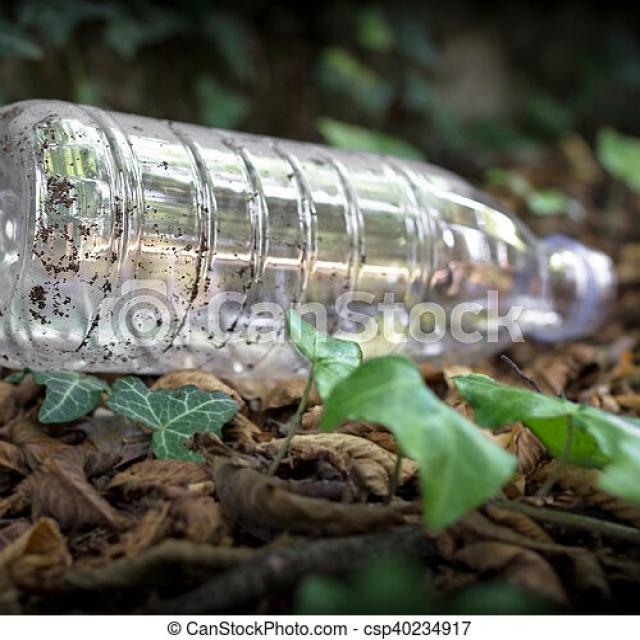plastic_bottle: (0, 96, 618, 383)
